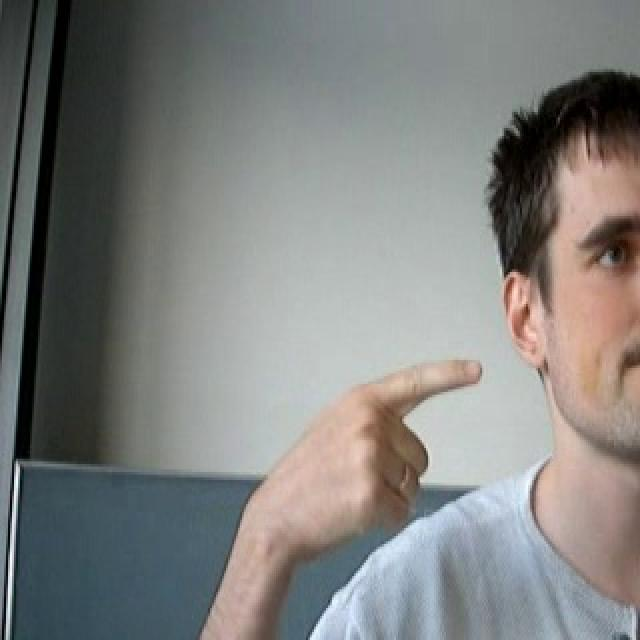G: (234, 347, 491, 571)
